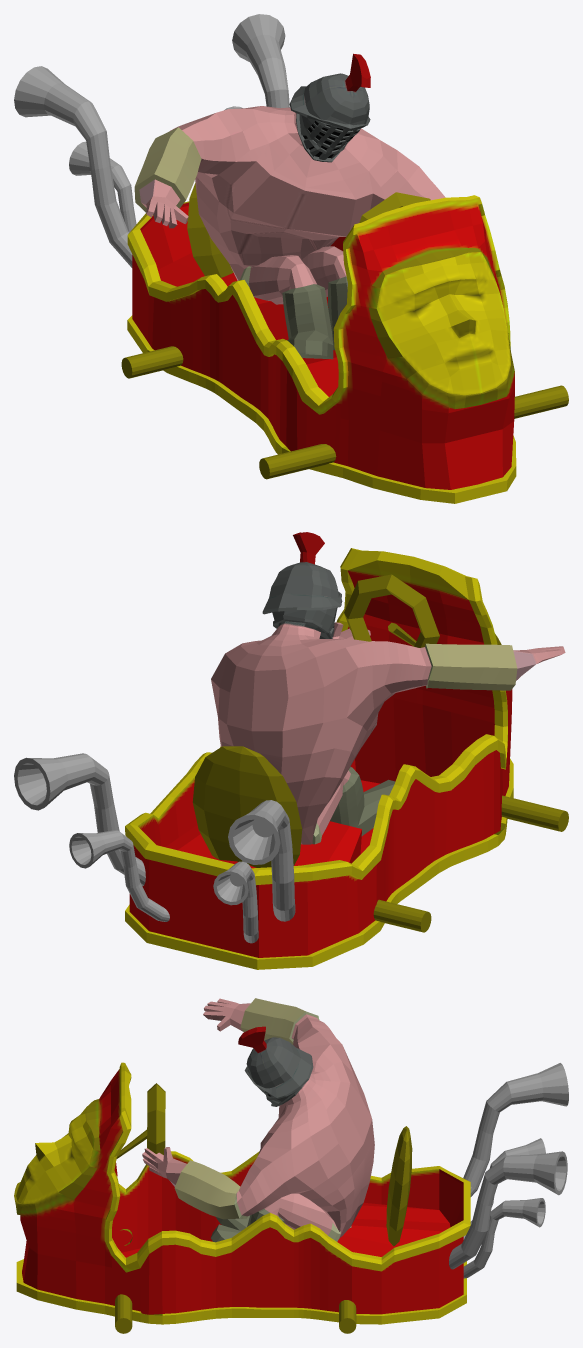
File: gladiVacile_000575.obj
The picture shows the model from 3 angles, top to bottom: view 1: azimuth 30°, elevation 25°; view 2: azimuth 150°, elevation 25°; view 3: azimuth 270°, elevation 25°; orthographic projection. The views are drawn at different scales.
Visible parts, largest first — view 1: GladiChasis_GladiChasisH, Gadiador_Gladiador_H.001, GladiTubos_GladiTubosH, GladiVolante_GladiVolanteH; view 2: GladiChasis_GladiChasisH, Gadiador_Gladiador_H.001, GladiTubos_GladiTubosH, GladiVolante_GladiVolanteH; view 3: GladiChasis_GladiChasisH, Gadiador_Gladiador_H.001, GladiTubos_GladiTubosH, GladiVolante_GladiVolanteH.
Part boxes in pixels (bbox=[...]): GladiChasis_GladiChasisH: bbox=[127, 195, 516, 503]; Gadiador_Gladiador_H.001: bbox=[134, 53, 445, 359]; GladiTubos_GladiTubosH: bbox=[14, 14, 289, 267]; GladiVolante_GladiVolanteH: bbox=[121, 182, 568, 479]; GladiChasis_GladiChasisH: bbox=[125, 548, 513, 969]; Gadiador_Gladiador_H.001: bbox=[211, 532, 565, 844]; GladiTubos_GladiTubosH: bbox=[14, 753, 295, 943]; GladiVolante_GladiVolanteH: bbox=[192, 574, 568, 932]; GladiChasis_GladiChasisH: bbox=[14, 1062, 470, 1324]; Gadiador_Gladiador_H.001: bbox=[142, 998, 374, 1242]; GladiTubos_GladiTubosH: bbox=[449, 1063, 568, 1278]; GladiVolante_GladiVolanteH: bbox=[115, 1083, 412, 1333].
Size of the model in its own units: 6.53 by 5.67 by 10.78.
